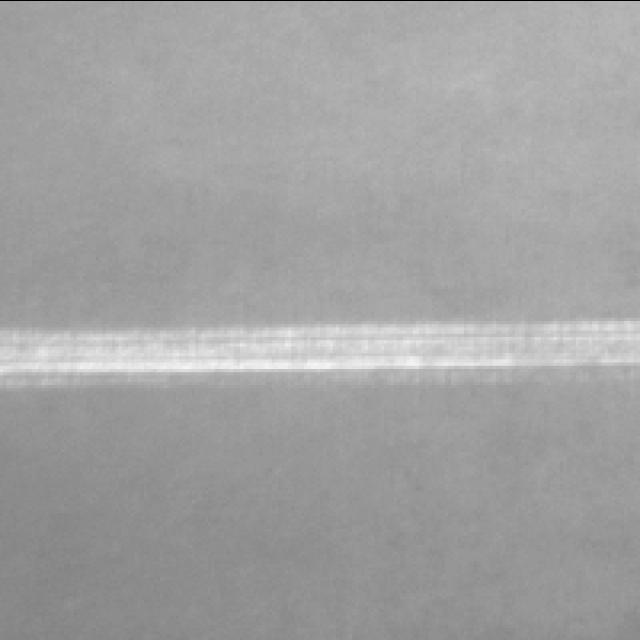scratches: (2, 316, 640, 378)
